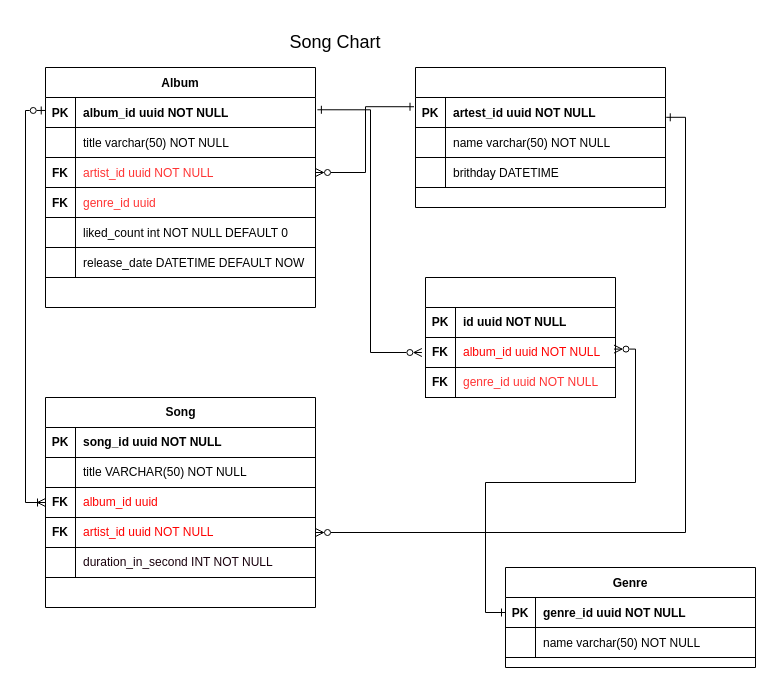
The diagram is 773 pixels wide and 685 high, and some of its shapes have lost their labels. The box of each missing label's shape, as (x1, y1, x2, y2) in pixels:
Artist: (414, 66, 666, 208)
GenreAlbumMapping: (424, 276, 616, 398)
